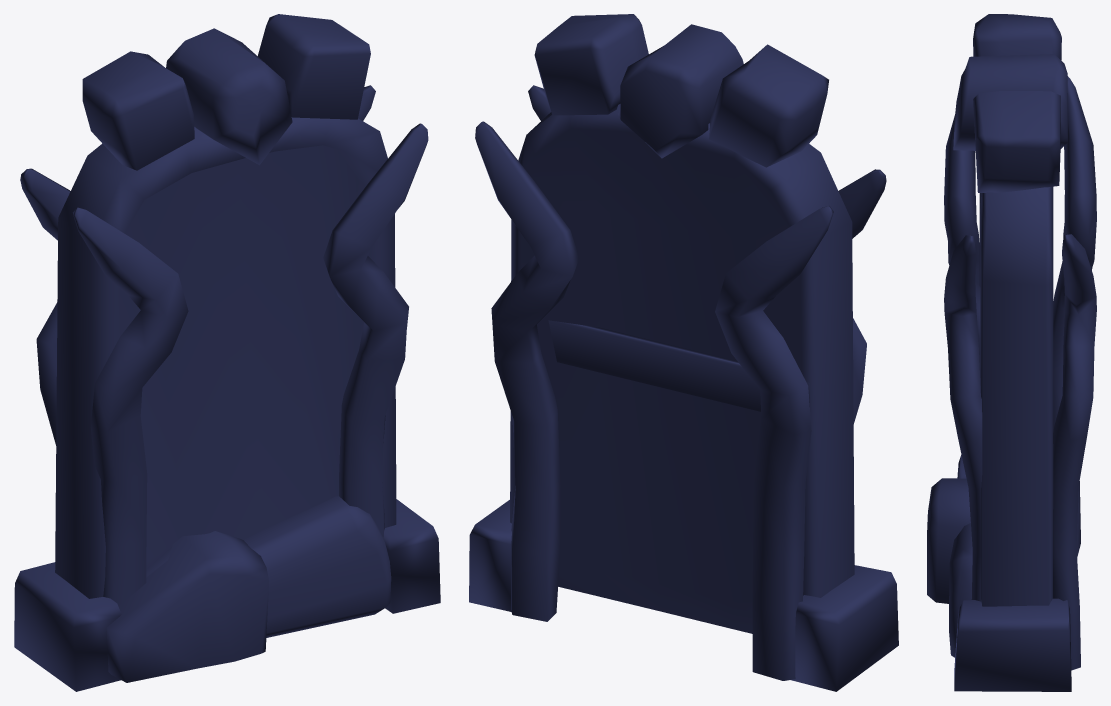
The model's file is mirrorLP.fbx.
3 views of the same model, side by side, from view 1: azimuth 30°, elevation 25°; view 2: azimuth 150°, elevation 25°; view 3: azimuth 270°, elevation 25° (orthographic). The views are drawn at different scales.
Visible parts, largest first — view 1: mirror_lp, maderas2_lp, piedraArriba_lp, piedraDelantera1_lp, piedrasCostados_lp, piedraDelantera2_lp, piedraPrincipal_lp, maderas1_lp; view 2: mirror_lp, maderas1_lp, piedraArriba_lp, piedrasCostados_lp, piedraPrincipal_lp, maderitaTrasera_lp, maderas2_lp; view 3: mirror_lp, maderas1_lp, piedraArriba_lp, maderas2_lp, piedrasCostados_lp, piedraPrincipal_lp, piedraDelantera1_lp, piedraDelantera2_lp.
Boxes of the visible parts, bbox=[...] form: mirror_lp: bbox=[55, 117, 396, 598]; maderas2_lp: bbox=[73, 123, 428, 606]; piedraArriba_lp: bbox=[82, 14, 370, 170]; piedraDelantera1_lp: bbox=[106, 531, 269, 682]; piedrasCostados_lp: bbox=[14, 499, 440, 691]; piedraDelantera2_lp: bbox=[244, 496, 391, 637]; piedraPrincipal_lp: bbox=[166, 28, 292, 165]; maderas1_lp: bbox=[20, 85, 375, 445]; mirror_lp: bbox=[510, 104, 854, 633]; maderas1_lp: bbox=[475, 121, 833, 680]; piedraArriba_lp: bbox=[534, 14, 828, 167]; piedrasCostados_lp: bbox=[469, 500, 898, 691]; piedraPrincipal_lp: bbox=[618, 24, 743, 158]; maderitaTrasera_lp: bbox=[548, 320, 809, 411]; maderas2_lp: bbox=[528, 85, 886, 423]; mirror_lp: bbox=[979, 186, 1053, 606]; maderas1_lp: bbox=[1053, 76, 1096, 670]; piedraArriba_lp: bbox=[973, 14, 1061, 192]; maderas2_lp: bbox=[944, 114, 982, 601]; piedrasCostados_lp: bbox=[954, 455, 1071, 691]; piedraPrincipal_lp: bbox=[953, 54, 1067, 150]; piedraDelantera1_lp: bbox=[927, 478, 970, 603]; piedraDelantera2_lp: bbox=[949, 523, 972, 657].
Size of the model in its own units: 8.44 by 12.82 by 3.57.
